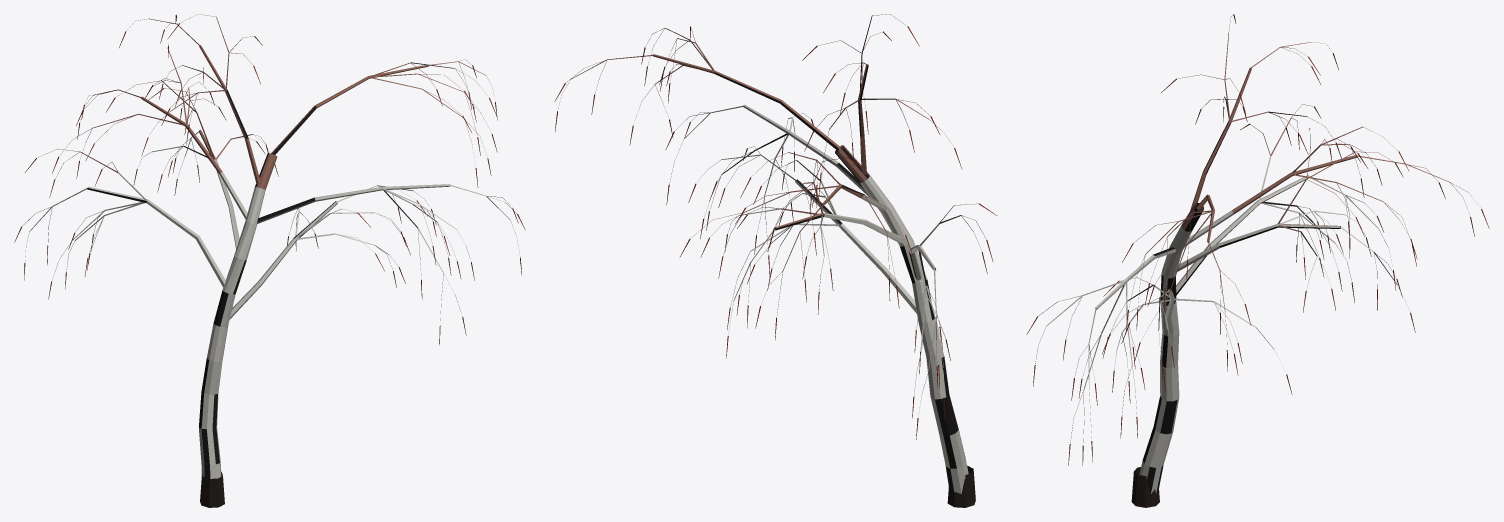
Rendered from tree_birch.glb.
3 views of the same model, side by side, from view 1: azimuth 30°, elevation 25°; view 2: azimuth 150°, elevation 25°; view 3: azimuth 270°, elevation 25° (orthographic). The views are drawn at different scales.
Visible parts, largest first — view 1: tree_birch; view 2: tree_birch; view 3: tree_birch.
Boxes of the visible parts, x1,y1,x2,y2 form: tree_birch: (14,14,525,507); tree_birch: (554,14,997,507); tree_birch: (1026,14,1489,507).
Bounding box in the file's own units: 9.61 × 9.69 × 8.16.
